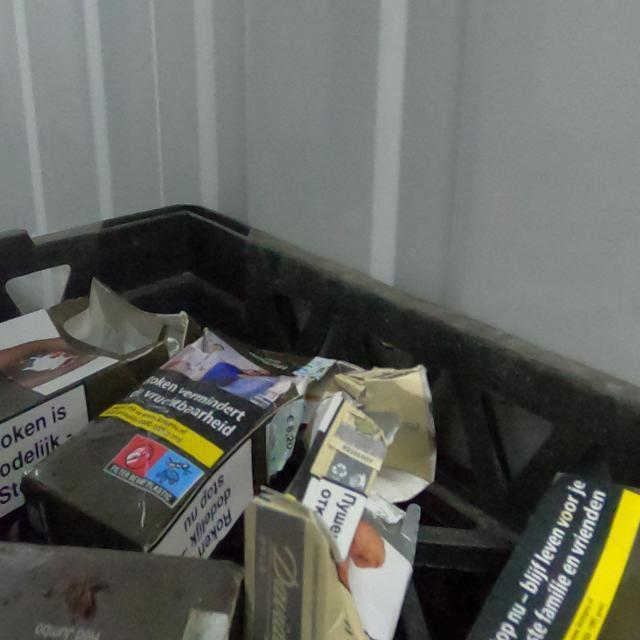Paper: (18, 328, 338, 562), (242, 356, 438, 640), (1, 276, 202, 526), (464, 467, 639, 640)
